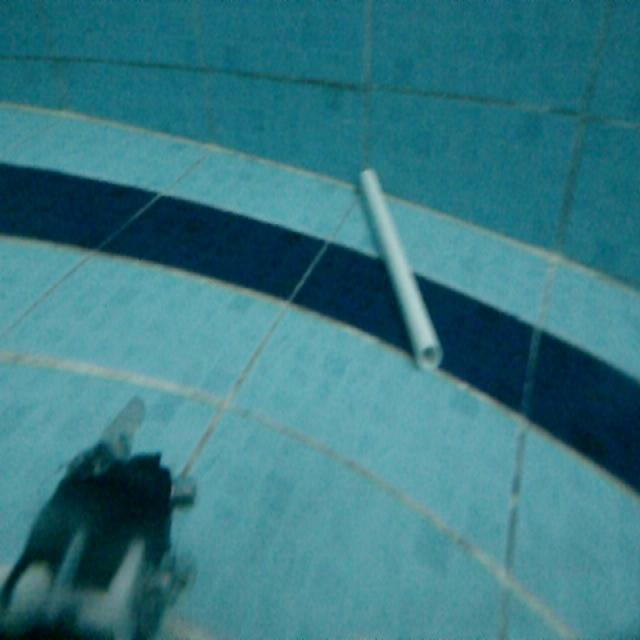Cube: (351, 159, 449, 373)
